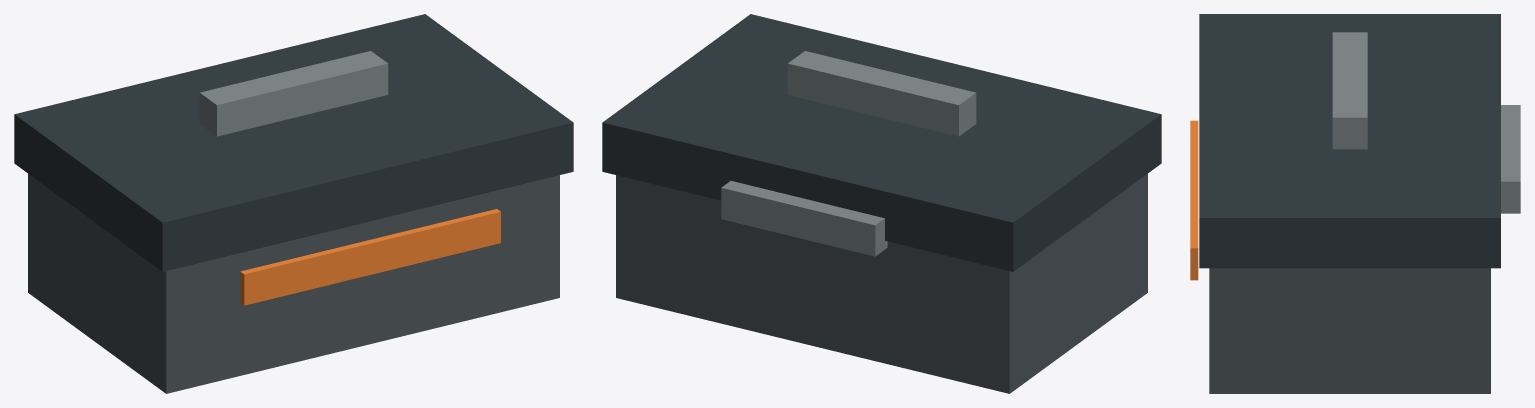
File: ammo-box-lod0.glb
The picture shows the model from 3 angles, left to right: view 1: azimuth 30°, elevation 25°; view 2: azimuth 150°, elevation 25°; view 3: azimuth 270°, elevation 25°; orthographic projection.
Visible parts, largest first — view 1: static; view 2: static; view 3: static.
Boxes of the visible parts, bbox=[...] form: static: bbox=[14, 14, 573, 393]; static: bbox=[602, 14, 1161, 393]; static: bbox=[1190, 14, 1520, 393].
Size of the model in its own units: 0.48 by 0.2425 by 0.3285.
